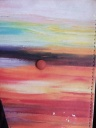Dolorex: (35, 59, 47, 70)
